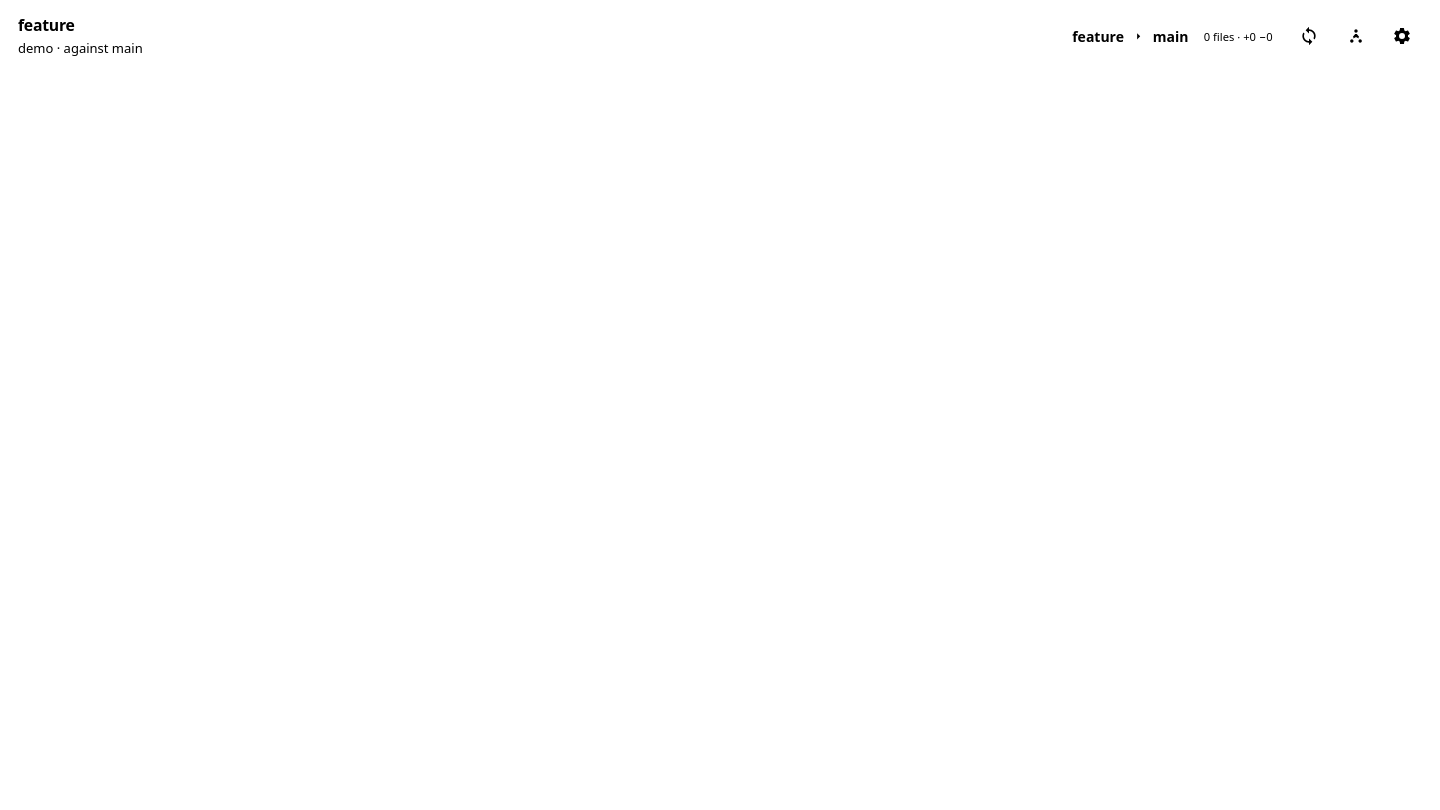
Test: TopBar graph › Graph opens history for the source branches
This screenshot has width=1440, height=810.
Click the button named "Graph" at coordinates (1356, 36), box [1336, 16, 1376, 56]
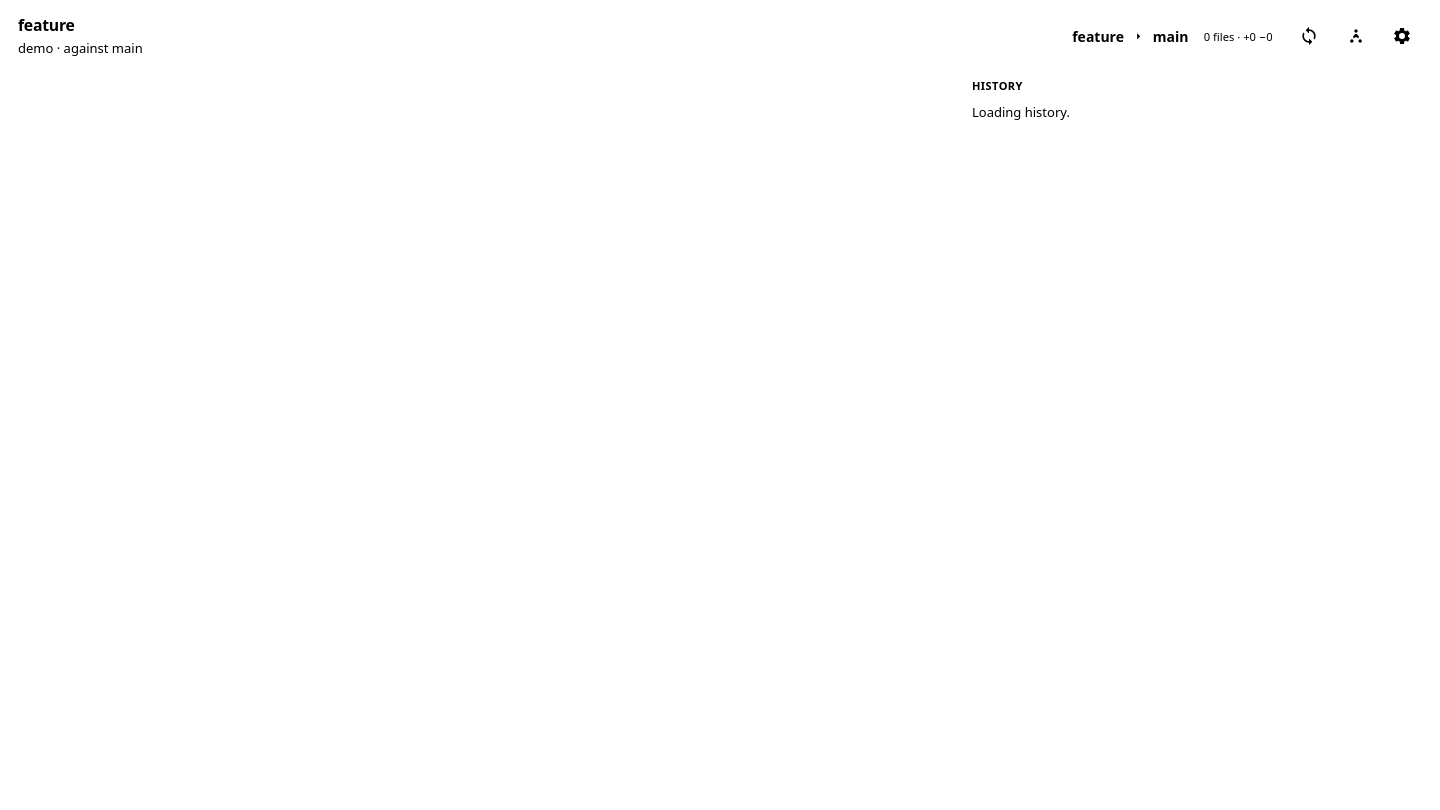
Result: the text "Loading history." is shown at [972, 103, 1070, 121]
